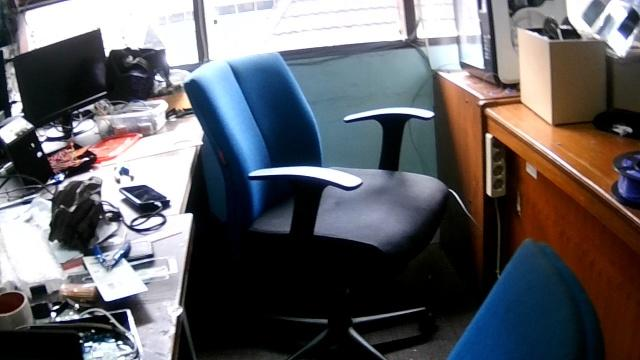AIO PC-Monitor-TV: (11, 26, 110, 127)
Kursi: (183, 47, 449, 359)
